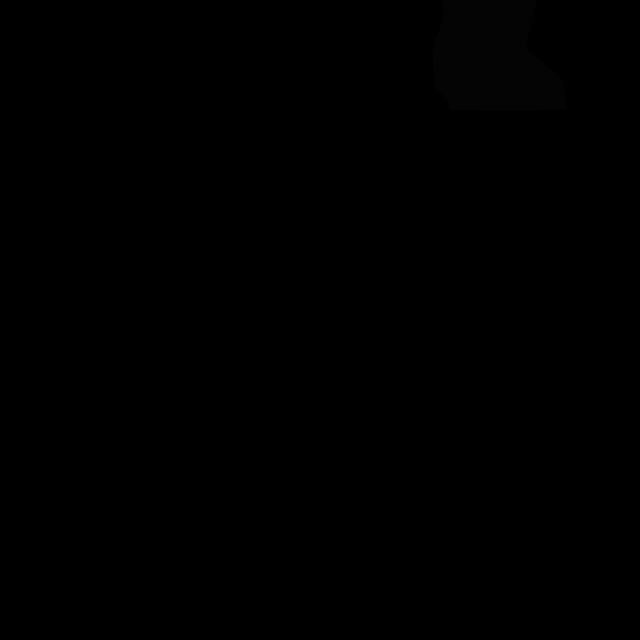soft_plastic: (432, 0, 567, 111)
